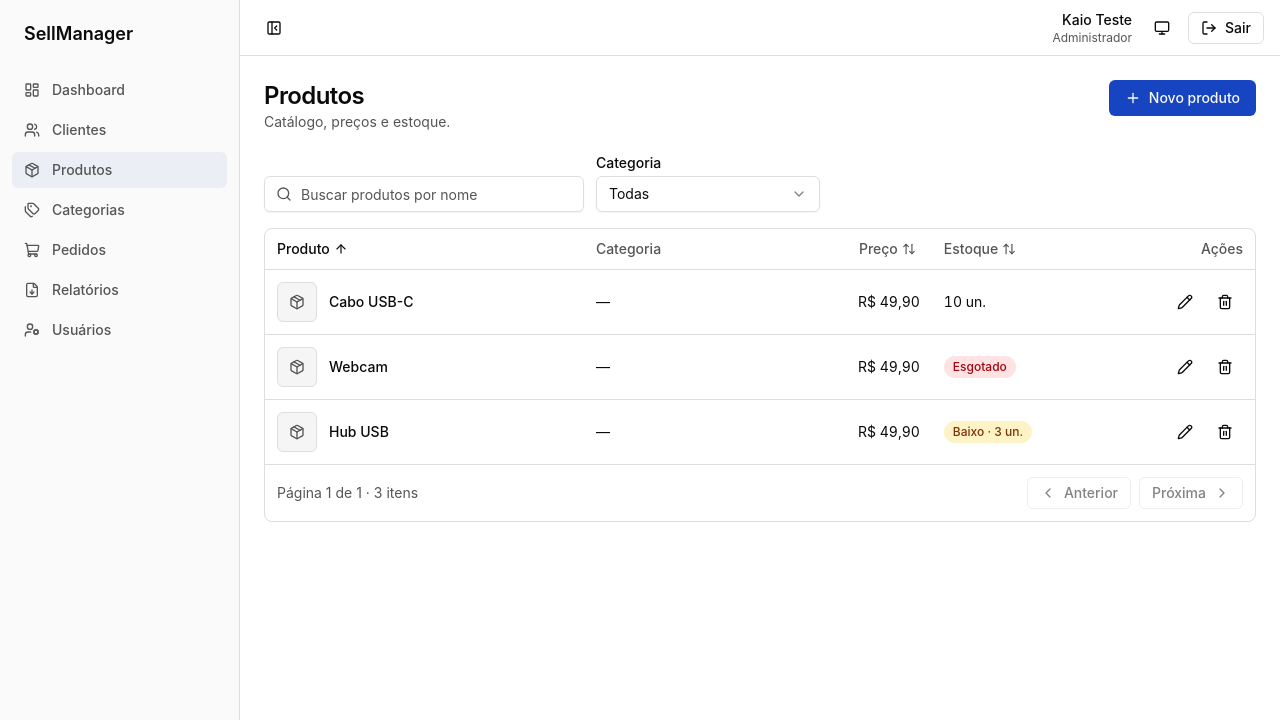
Test: Produtos › exclui após confirmar e explica a recusa quando está em pedidos
Click the button named "Excluir Webcam" at (1225, 366), box x1=1207 y1=348 x2=1243 y2=384
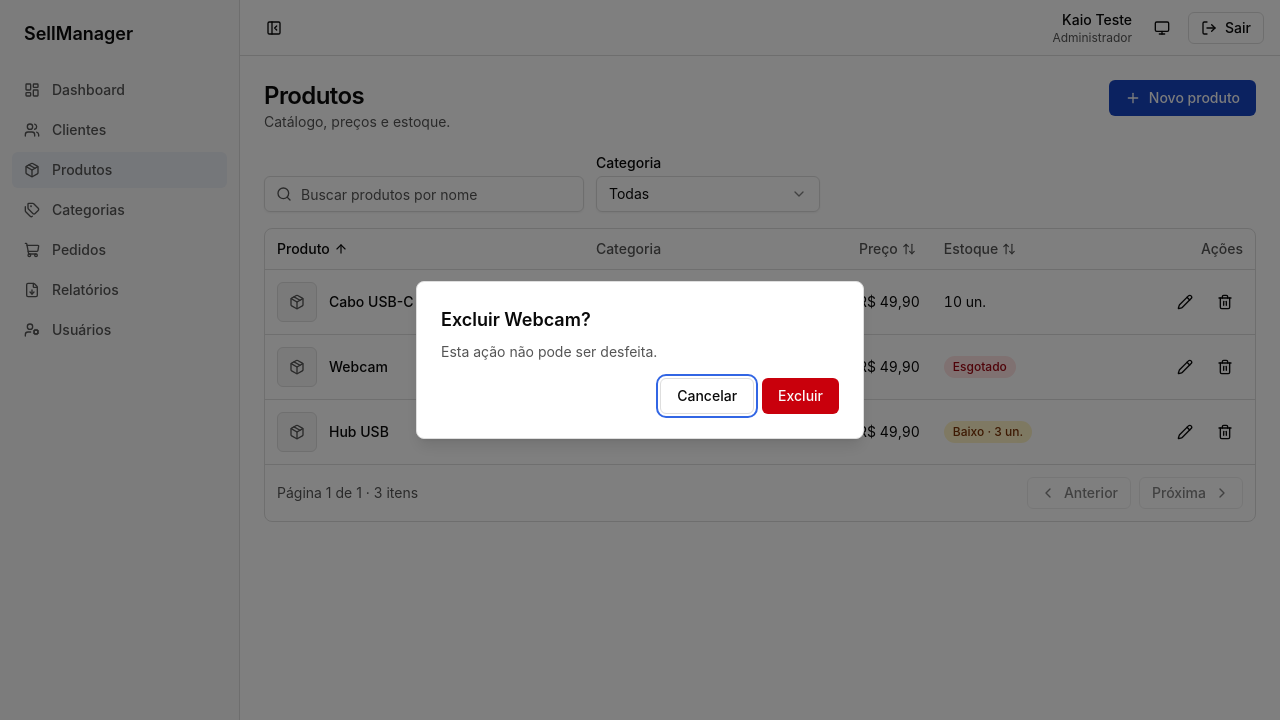
Click the button "Excluir" at (801, 396), box x1=762 y1=378 x2=839 y2=414
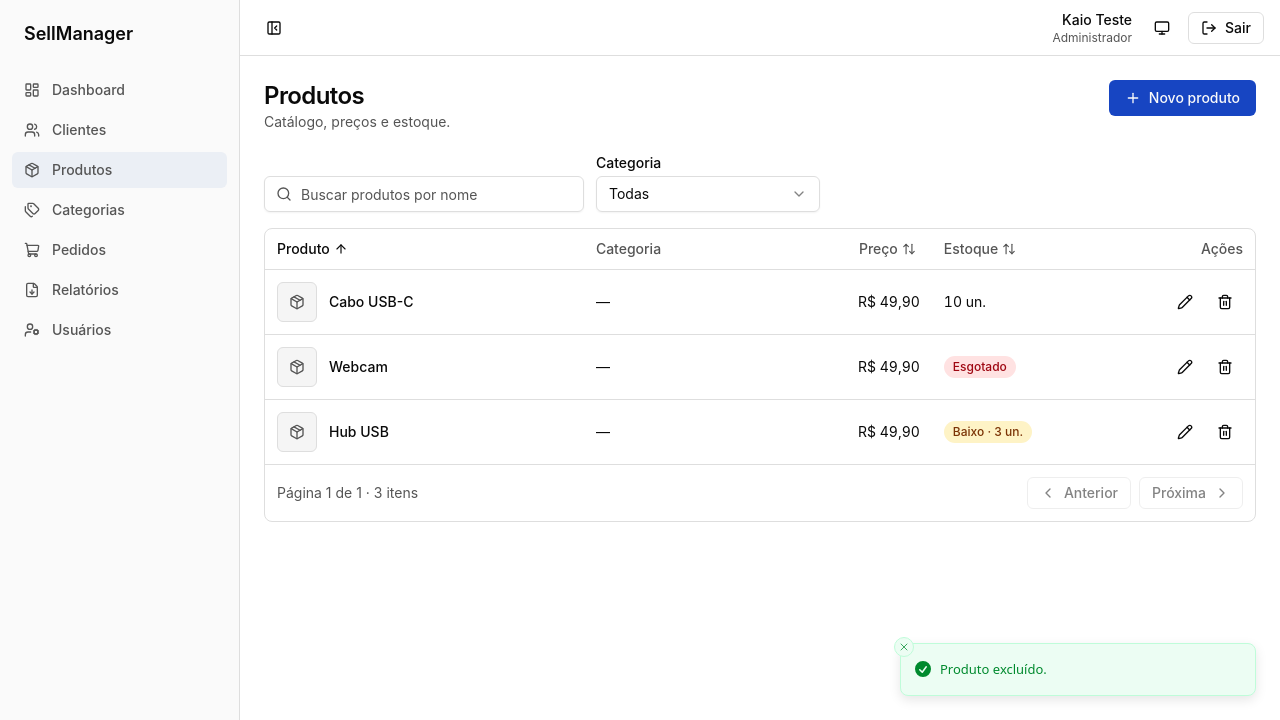
Click the button named "Excluir Cabo USB-C" at (1225, 302), box x1=1207 y1=284 x2=1243 y2=320
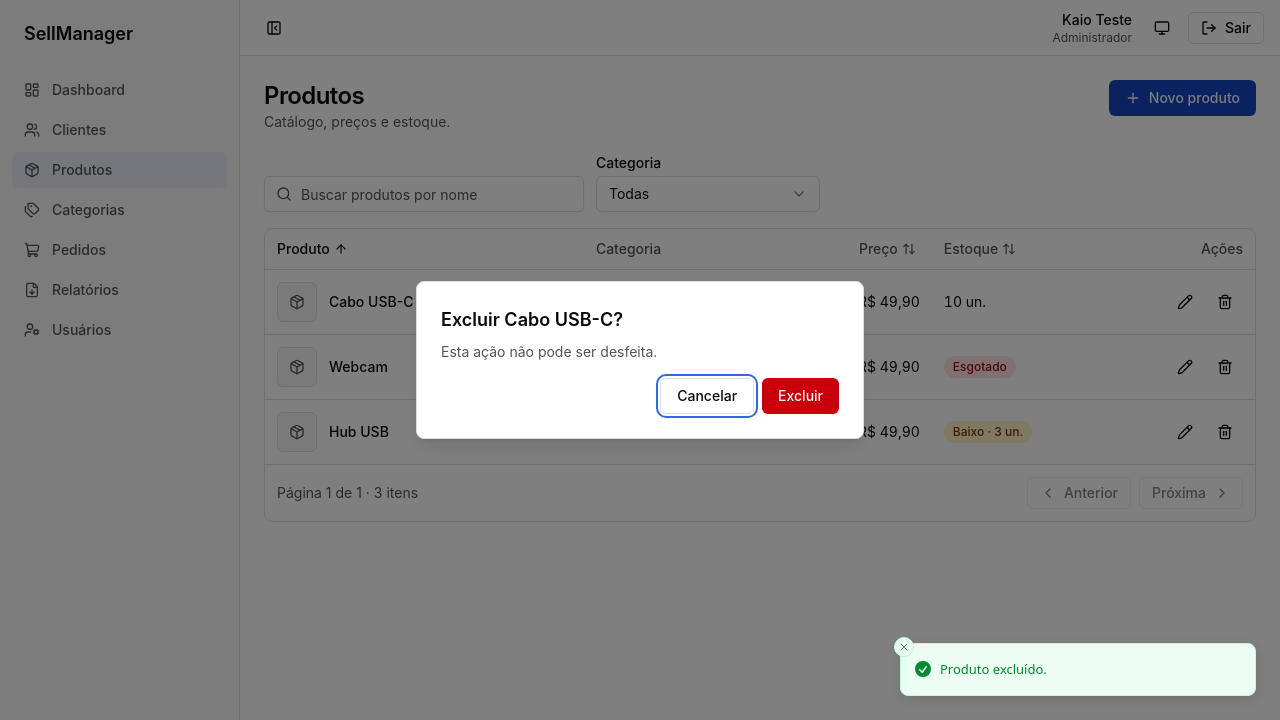
Click the button "Excluir" at (801, 396), box x1=762 y1=378 x2=839 y2=414
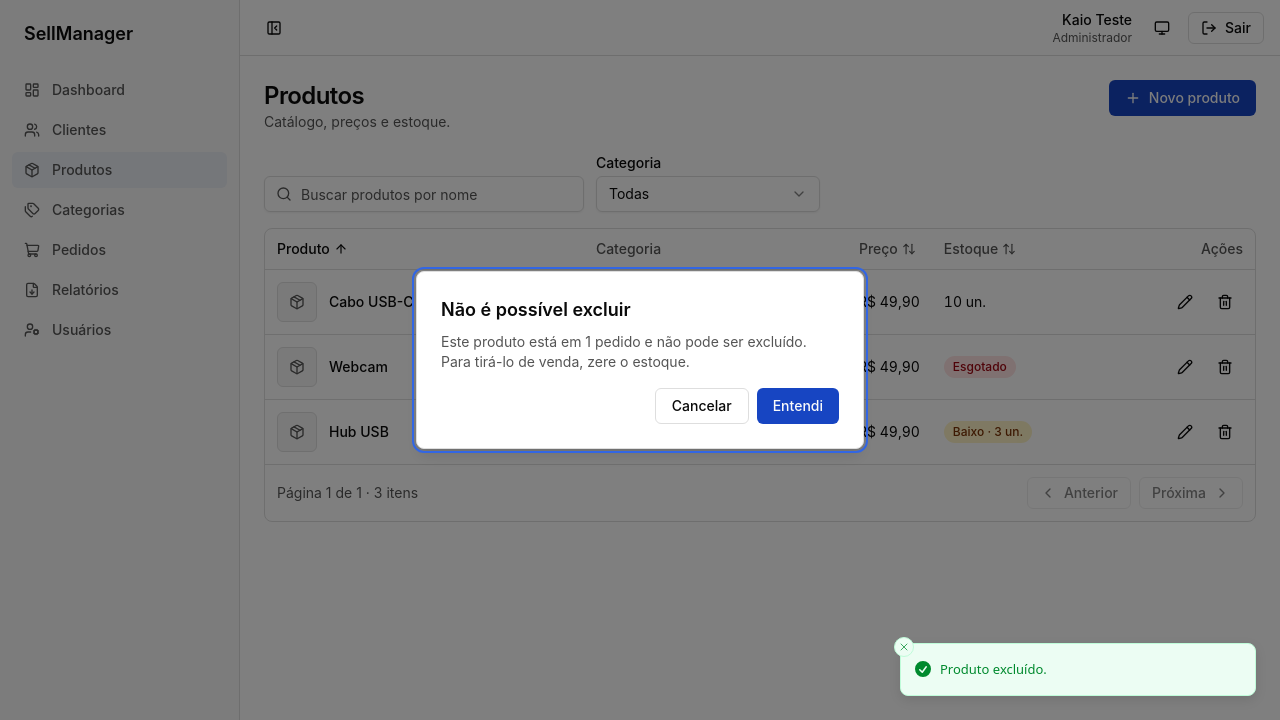
Now the text "está em 1 pedido e não pode ser excluído" is shown, box x1=441 y1=333 x2=807 y2=370
